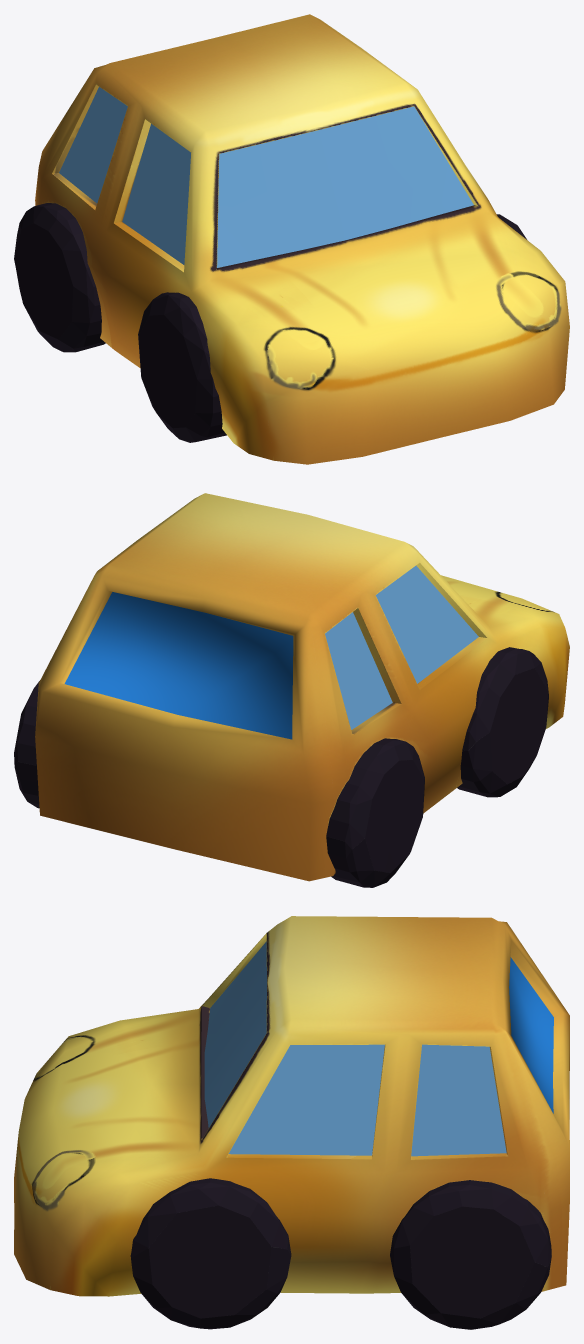
Rendered from yellowcar_final.obj.
The picture shows the model from 3 angles, top to bottom: view 1: azimuth 30°, elevation 25°; view 2: azimuth 150°, elevation 25°; view 3: azimuth 270°, elevation 25°; orthographic projection. The views are drawn at different scales.
Parts seen in each view (by area): view 1: YELLOWCAR_2; view 2: YELLOWCAR_2; view 3: YELLOWCAR_2.
Boxes of the visible parts, x1,y1,x2,y2 form: YELLOWCAR_2: [14, 14, 569, 464]; YELLOWCAR_2: [14, 493, 569, 887]; YELLOWCAR_2: [14, 916, 569, 1329].
Bounding box in the file's own units: 2.17 × 1.56 × 2.82.
2 materials, 1 textured.
